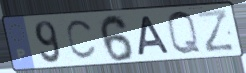6: (98, 12, 136, 63)
9: (34, 19, 65, 65)
A: (136, 15, 173, 58)
C: (64, 18, 98, 62)
Q: (165, 10, 204, 58)
Z: (195, 8, 238, 55)
